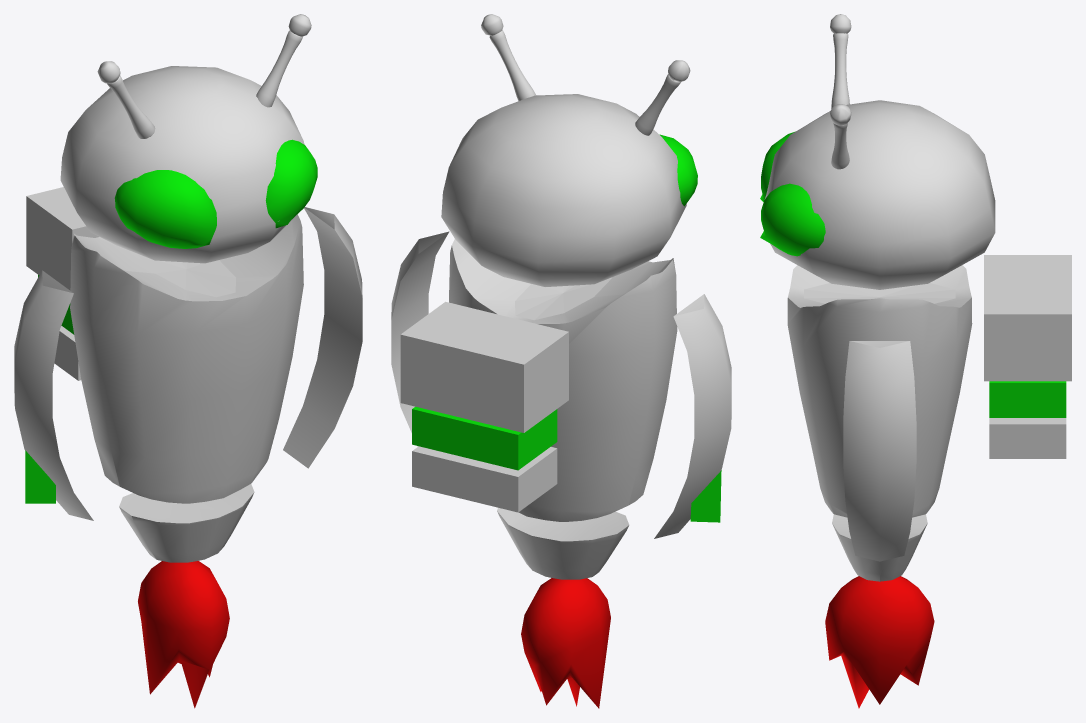
The model's file is alienwithbag.fbx.
The picture shows the model from 3 angles, left to right: view 1: azimuth 30°, elevation 25°; view 2: azimuth 150°, elevation 25°; view 3: azimuth 270°, elevation 25°; orthographic projection. The views are drawn at different scales.
Parts seen in each view (by area): view 1: front1; view 2: front1; view 3: front1.
Boxes of the visible parts, bbox=[...] form: front1: bbox=[14, 14, 362, 708]; front1: bbox=[391, 14, 731, 708]; front1: bbox=[760, 14, 1071, 708].
Bounding box in the file's own units: 10.05 × 18.73 × 8.15.
